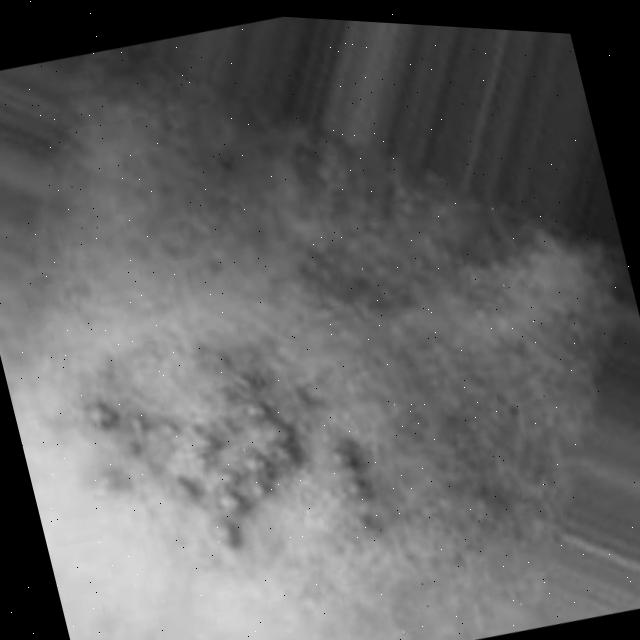Shingles: (63, 309, 400, 593)
